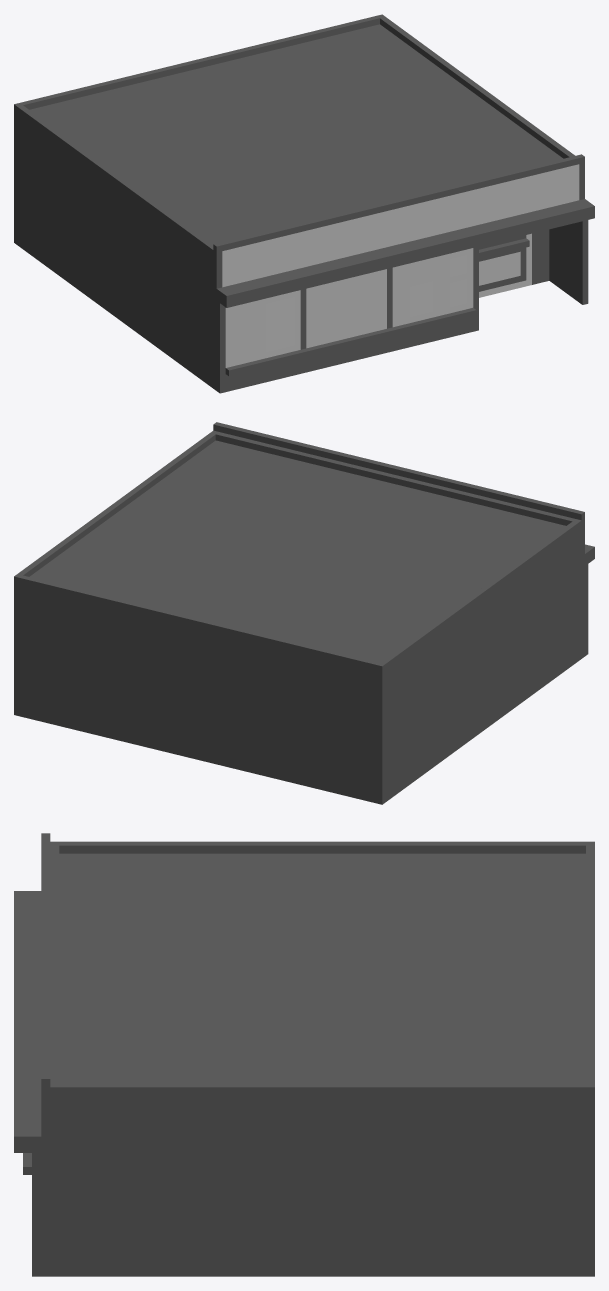
Rendered from bld_store02.obj.
The picture shows the model from 3 angles, top to bottom: view 1: azimuth 30°, elevation 25°; view 2: azimuth 150°, elevation 25°; view 3: azimuth 270°, elevation 25°; orthographic projection. The views are drawn at different scales.
Bounding box in the file's own units: 64 × 24 × 64.
